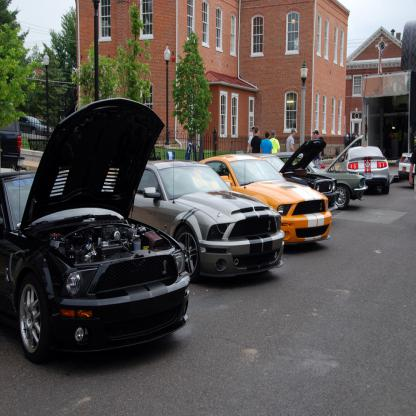Car: (0, 98, 390, 366), (0, 101, 24, 169), (18, 114, 53, 136), (398, 152, 415, 187)
